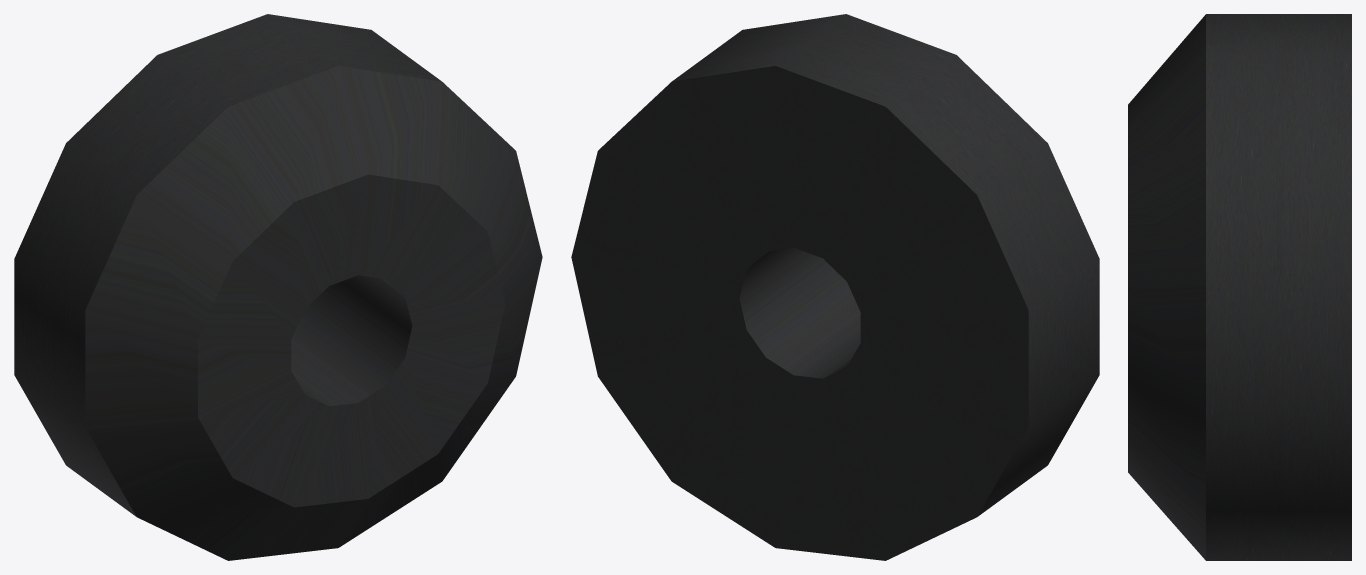
The model's file is Windage_Knob.dae.
3 renders of one model, left to right at view 1: azimuth 30°, elevation 25°; view 2: azimuth 150°, elevation 25°; view 3: azimuth 270°, elevation 25°, orthographic. The views are drawn at different scales.
Parts seen in each view (by area): view 1: Windage_Knob; view 2: Windage_Knob; view 3: Windage_Knob.
Part boxes in pixels (x1=…): Windage_Knob: x1=14, y1=14, x2=542, y2=560; Windage_Knob: x1=571, y1=14, x2=1099, y2=560; Windage_Knob: x1=1128, y1=14, x2=1351, y2=560.
Size of the model in its own units: 0.0178 by 0.00732 by 0.0179.
1 material, 1 textured.
